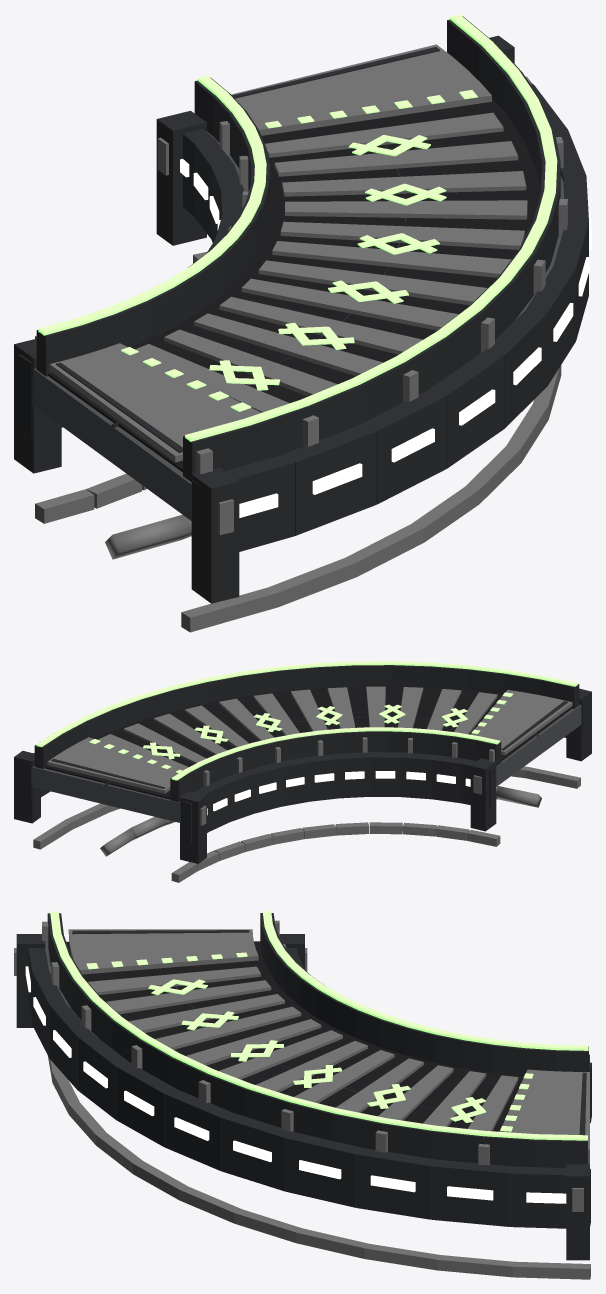
The model's file is Curve_90_Conveyor_Belt_v4.glb.
3 views of the same model, one above another, from view 1: azimuth 30°, elevation 25°; view 2: azimuth 150°, elevation 25°; view 3: azimuth 270°, elevation 25° (orthographic). The views are drawn at different scales.
Parts seen in each view (by area): view 1: Curve_90_Conveyor_Belt_v4, Treads, TreadsRev; view 2: Curve_90_Conveyor_Belt_v4, Treads, TreadsRev; view 3: Curve_90_Conveyor_Belt_v4, Treads, TreadsRev.
Boxes of the visible parts, x1=… form: Curve_90_Conveyor_Belt_v4: x1=14, y1=14, x2=591, y2=632; Treads: x1=135, y1=112, x2=527, y2=412; TreadsRev: x1=135, y1=113, x2=527, y2=412; Curve_90_Conveyor_Belt_v4: x1=14, y1=661, x2=591, y2=882; Treads: x1=98, y1=686, x2=497, y2=770; TreadsRev: x1=101, y1=686, x2=497, y2=769; Curve_90_Conveyor_Belt_v4: x1=14, y1=911, x2=591, y2=1279; Treads: x1=88, y1=966, x2=518, y2=1131; TreadsRev: x1=89, y1=968, x2=517, y2=1130.
Size of the model in its own units: 6.85 by 1.83 by 6.85.
